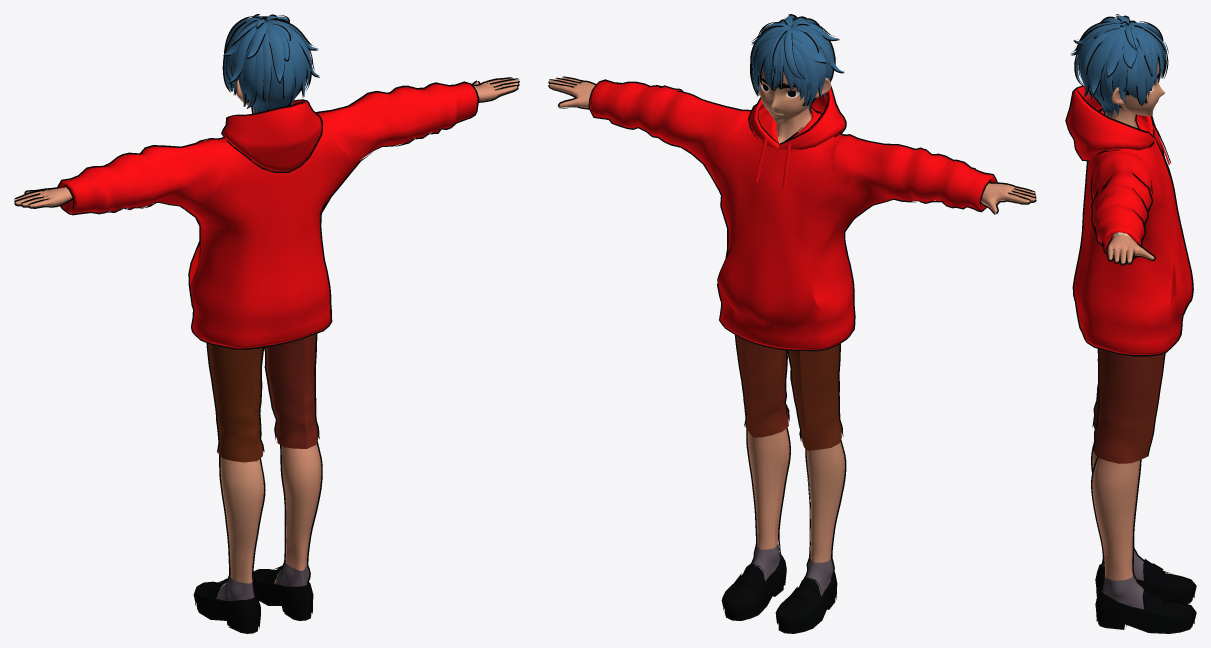
The model's file is quest_4_model.glb.
3 renders of one model, left to right at view 1: azimuth 30°, elevation 25°; view 2: azimuth 150°, elevation 25°; view 3: azimuth 270°, elevation 25°, orthographic. The views are drawn at different scales.
Visible parts, largest first — view 1: Character_0; view 2: Character_0; view 3: Character_0.
Part boxes in pixels (box(x1,y1,x2,y2)): Character_0: box(14, 14, 519, 633); Character_0: box(548, 14, 1036, 633); Character_0: box(1065, 14, 1196, 633).
Size of the model in its own units: 1.47 by 1.67 by 0.3356.
Materials: 2 (1 with a texture image).
